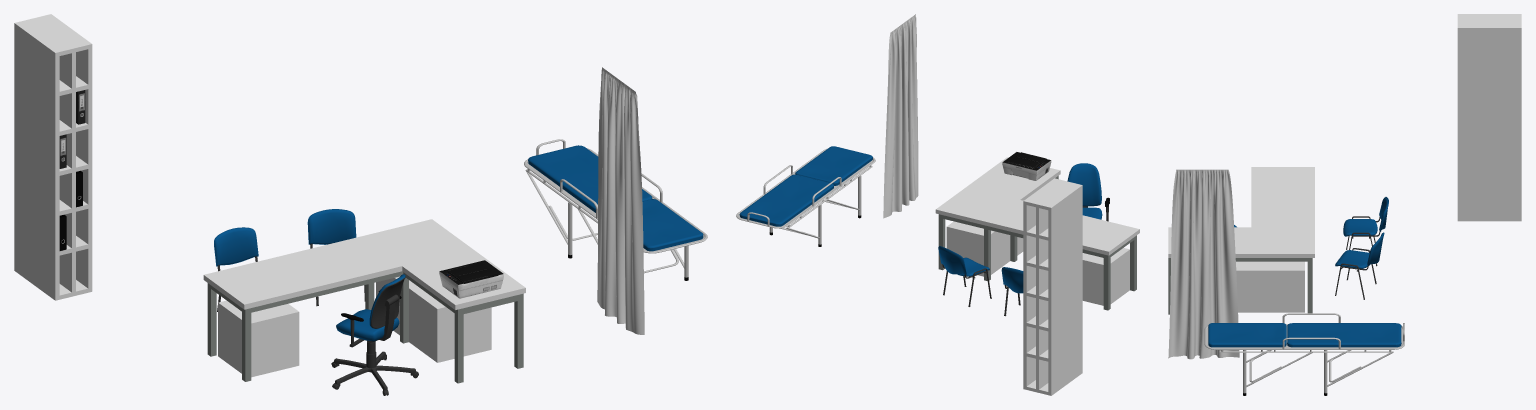
Rendered from Clinica.fbx.
3 renders of one model, left to right at view 1: azimuth 30°, elevation 25°; view 2: azimuth 150°, elevation 25°; view 3: azimuth 270°, elevation 25°, orthographic. The views are drawn at different scales.
Parts seen in each view (by area): view 1: MesaConsulta, ArmarioConsulta, Plane001, camilla, OfficeChair, Printer, sillaConferencia.001, sillaConferencia.002; view 2: ArmarioConsulta, MesaConsulta, Plane001, camilla, OfficeChair, sillaConferencia.001, Printer, sillaConferencia.002; view 3: ArmarioConsulta, Plane001, MesaConsulta, camilla, sillaConferencia.001, sillaConferencia.002.
Part boxes in pixels (<box>): MesaConsulta: <box>203,219,525,383</box>; ArmarioConsulta: <box>14,14,92,300</box>; Plane001: <box>597,67,644,334</box>; camilla: <box>524,139,707,280</box>; OfficeChair: <box>331,274,418,395</box>; Printer: <box>439,260,503,298</box>; sillaConferencia.001: <box>307,209,365,306</box>; sillaConferencia.002: <box>214,227,258,311</box>; ArmarioConsulta: <box>1023,178,1082,395</box>; MesaConsulta: <box>935,157,1139,310</box>; Plane001: <box>883,14,918,218</box>; camilla: <box>736,146,875,246</box>; OfficeChair: <box>1067,163,1109,221</box>; sillaConferencia.001: <box>938,246,991,306</box>; Printer: <box>1002,152,1051,180</box>; sillaConferencia.002: <box>1001,267,1023,316</box>; ArmarioConsulta: <box>1457,14,1521,221</box>; Plane001: <box>1168,169,1239,359</box>; MesaConsulta: <box>1168,167,1314,314</box>; camilla: <box>1204,313,1404,395</box>; sillaConferencia.001: <box>1335,232,1384,299</box>; sillaConferencia.002: <box>1343,197,1388,266</box>.
Size of the model in its own units: 607 by 290 by 480.
Materials: 10 (2 with a texture image).
